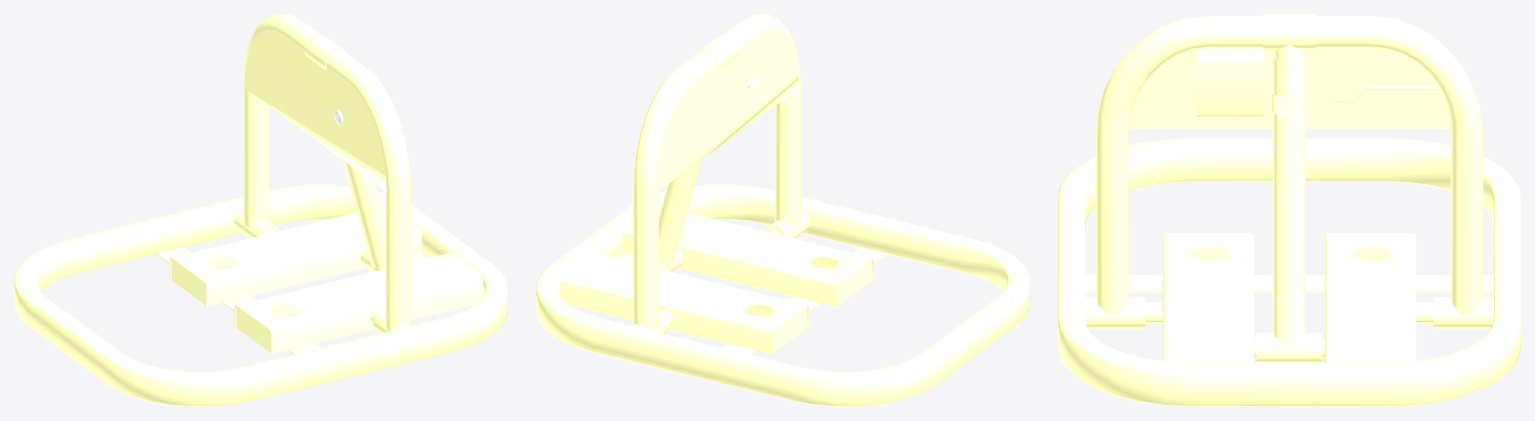
Rendered from Ground_Lock.glb.
The picture shows the model from 3 angles, left to right: view 1: azimuth 30°, elevation 25°; view 2: azimuth 150°, elevation 25°; view 3: azimuth 270°, elevation 25°; orthographic projection. The views are drawn at different scales.
Parts seen in each view (by area): view 1: Ground_Lock; view 2: Ground_Lock; view 3: Ground_Lock.
Boxes of the visible parts, <box> form: Ground_Lock: <box>14,14,507,406</box>; Ground_Lock: <box>536,14,1029,406</box>; Ground_Lock: <box>1058,14,1520,406</box>.
Size of the model in its own units: 0.58 by 0.36 by 0.48.
